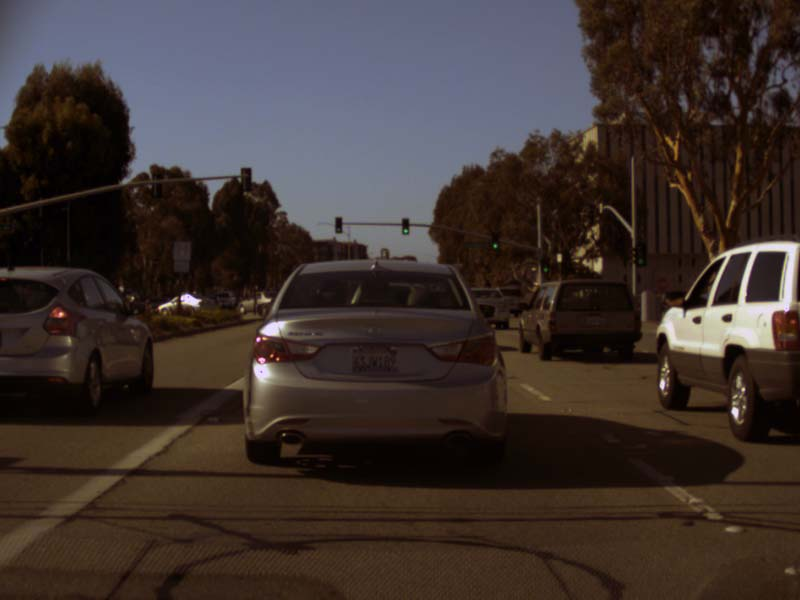Green: (636, 243, 645, 266), (541, 258, 549, 273), (335, 216, 342, 233), (401, 218, 408, 234), (491, 233, 498, 249)
